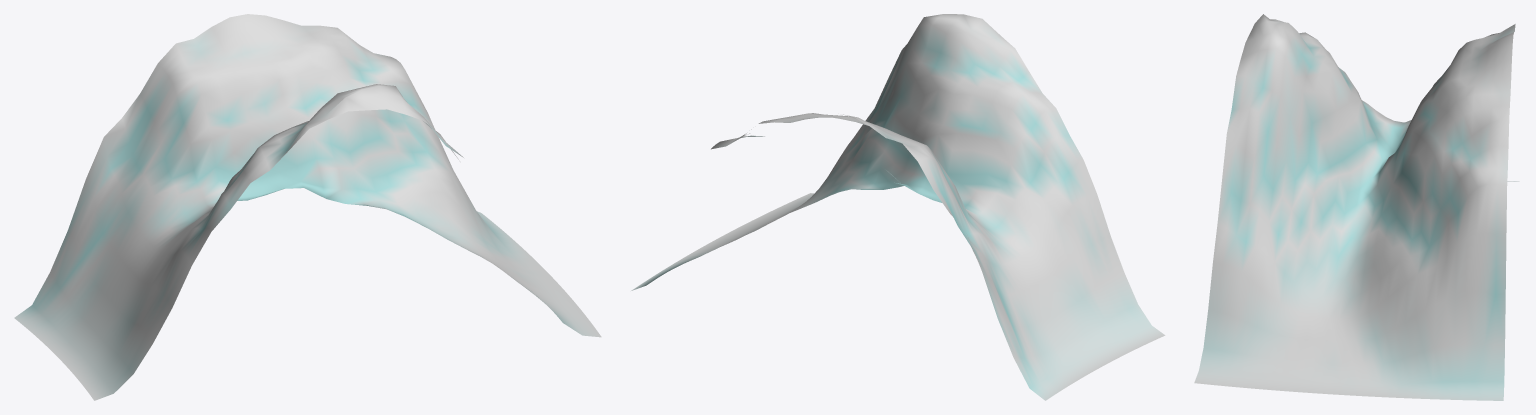
Rendered from near_18.glb.
3 views of the same model, side by side, from view 1: azimuth 30°, elevation 25°; view 2: azimuth 150°, elevation 25°; view 3: azimuth 270°, elevation 25° (orthographic). The views are drawn at different scales.
Visible parts, largest first — view 1: Mountain; view 2: Mountain; view 3: Mountain.
Boxes of the visible parts, bbox=[...] form: Mountain: bbox=[14, 14, 601, 400]; Mountain: bbox=[631, 14, 1165, 400]; Mountain: bbox=[1194, 14, 1519, 400].
Bounding box in the file's own units: 369 × 197 × 221.
